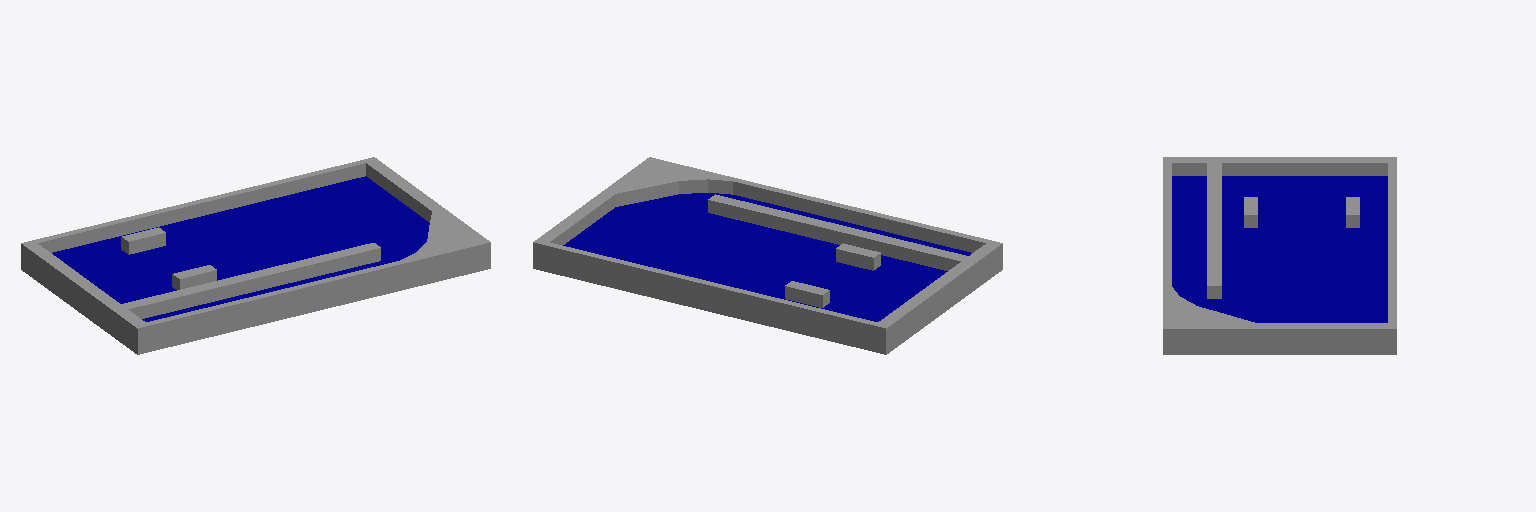
File: possibleTable.obj
3 renders of one model, left to right at view 1: azimuth 30°, elevation 25°; view 2: azimuth 150°, elevation 25°; view 3: azimuth 270°, elevation 25°, orthographic.
Parts seen in each view (by area): view 1: Cube; view 2: Cube; view 3: Cube.
Part boxes in pixels (x1,y1,x2,y2): Cube: (21,157,490,354); Cube: (533,157,1002,354); Cube: (1163,157,1396,354).
Bounding box in the file's own units: 28 × 2 × 16.